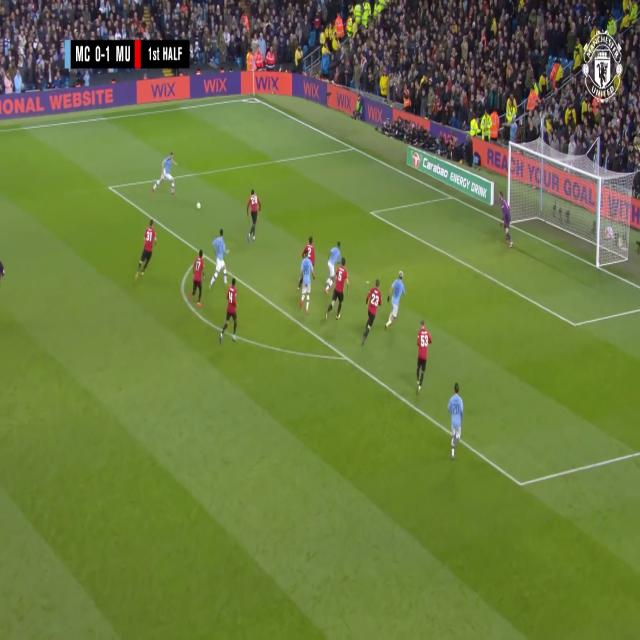Ball: (197, 203, 202, 209)
GoalKeeper: (498, 194, 514, 252)
TEAM 1: (152, 151, 179, 197), (388, 272, 408, 332), (211, 228, 231, 284), (448, 384, 463, 458), (325, 228, 341, 291), (299, 249, 315, 306)
TEAM 2: (362, 281, 384, 348), (325, 263, 349, 321), (136, 220, 156, 280), (190, 238, 206, 312), (415, 318, 431, 390), (223, 282, 240, 344), (246, 190, 261, 245)
